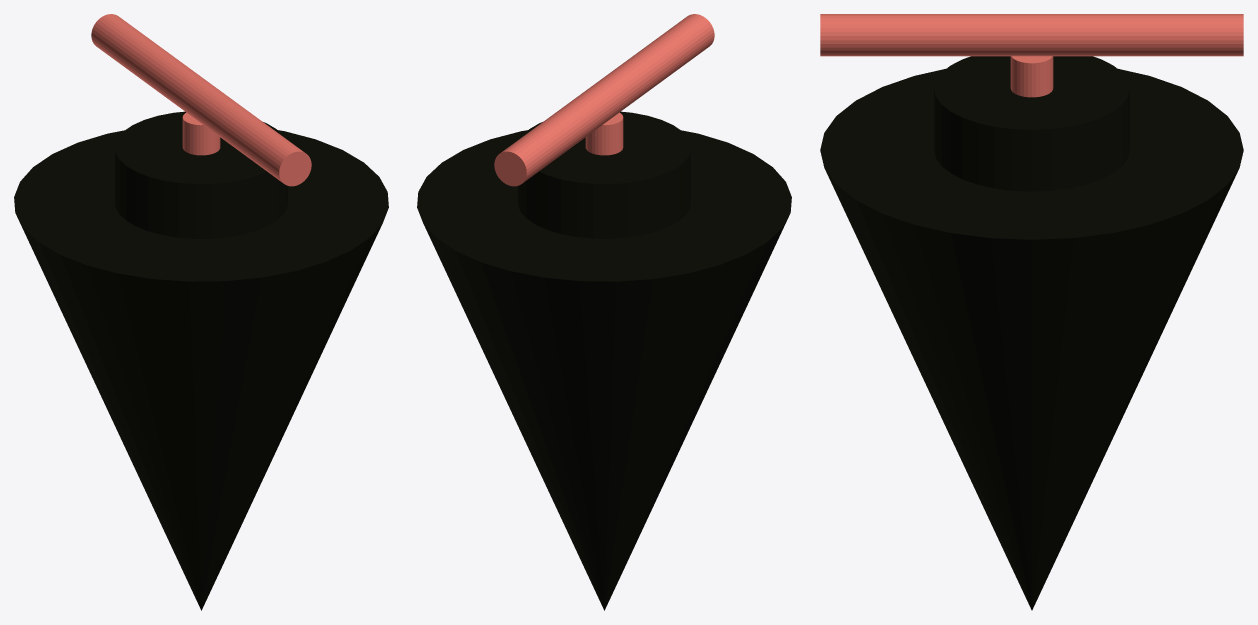
The model's file is Drill.fbx.
The picture shows the model from 3 angles, left to right: view 1: azimuth 30°, elevation 25°; view 2: azimuth 150°, elevation 25°; view 3: azimuth 270°, elevation 25°; orthographic projection. The views are drawn at different scales.
Parts seen in each view (by area): view 1: Cone.001, Cylinder.001, Cylinder; view 2: Cone.001, Cylinder.001, Cylinder; view 3: Cone.001, Cylinder.001, Cylinder.
Boxes of the visible parts, x1,y1,x2,y2 form: Cone.001: (14, 111, 388, 610); Cylinder.001: (91, 14, 311, 186); Cylinder: (182, 112, 220, 155); Cone.001: (417, 111, 791, 610); Cylinder.001: (494, 14, 714, 186); Cylinder: (585, 112, 623, 155); Cone.001: (820, 56, 1243, 610); Cylinder.001: (820, 14, 1243, 56); Cylinder: (1010, 56, 1053, 97).
Bounding box in the file's own units: 200 × 310 × 200.
